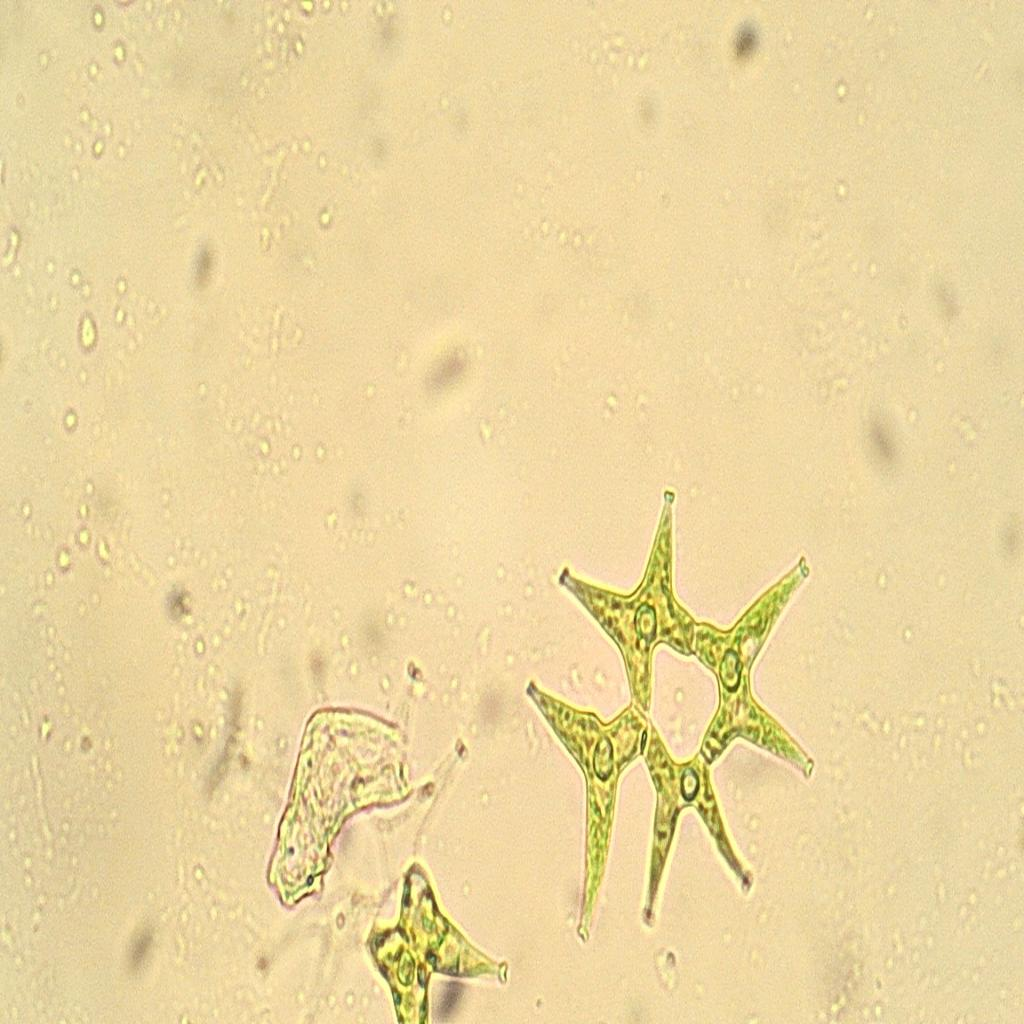Pediastrum_CT: (506, 462, 837, 967)
